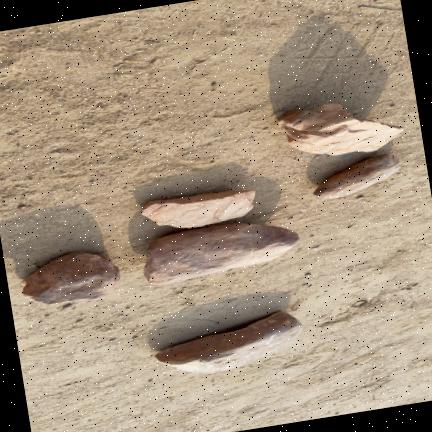Rocks: (143, 223, 297, 284), (155, 311, 301, 372), (278, 103, 401, 154), (22, 252, 119, 303), (141, 190, 254, 227), (313, 153, 399, 197), (62, 303, 71, 308)
